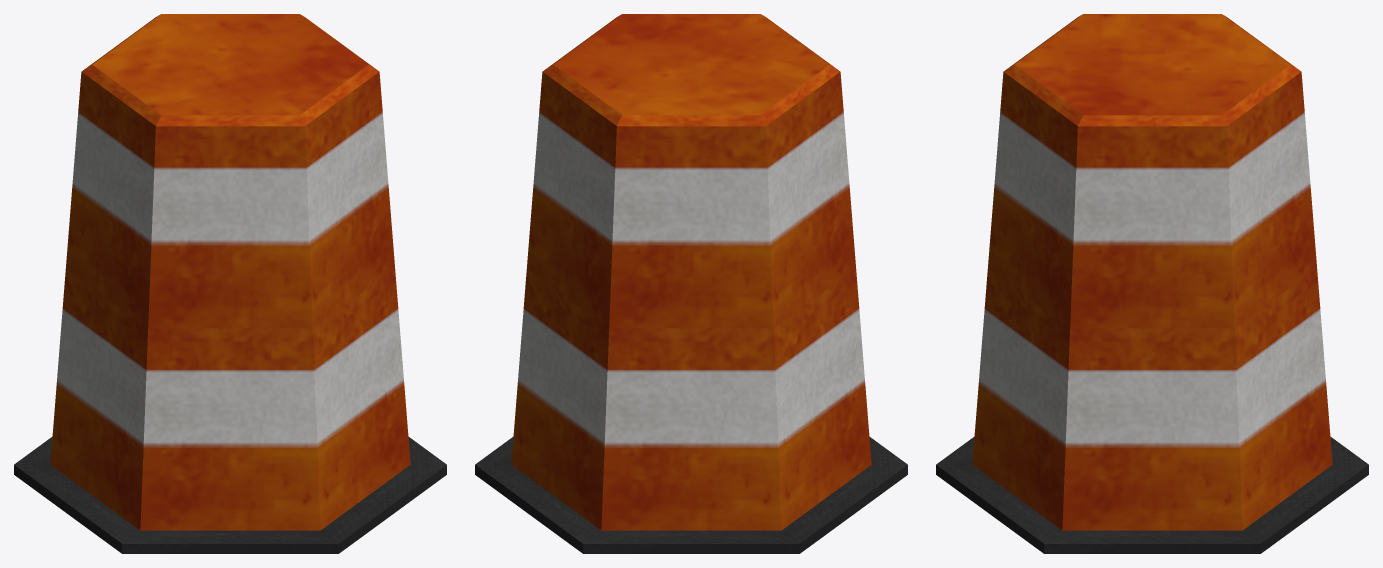
Rendered from Urban_ConstructionConeRubber_Model.fbx.
3 views of the same model, side by side, from view 1: azimuth 30°, elevation 25°; view 2: azimuth 150°, elevation 25°; view 3: azimuth 270°, elevation 25° (orthographic).
Parts seen in each view (by area): view 1: Urban_ConstructionConeRubber_Mesh; view 2: Urban_ConstructionConeRubber_Mesh; view 3: Urban_ConstructionConeRubber_Mesh.
Part boxes in pixels (bbox=[...]): Urban_ConstructionConeRubber_Mesh: bbox=[14, 14, 446, 553]; Urban_ConstructionConeRubber_Mesh: bbox=[475, 14, 907, 553]; Urban_ConstructionConeRubber_Mesh: bbox=[936, 14, 1368, 553].
Bounding box in the file's own units: 0.6302 × 0.7605 × 0.7277.
